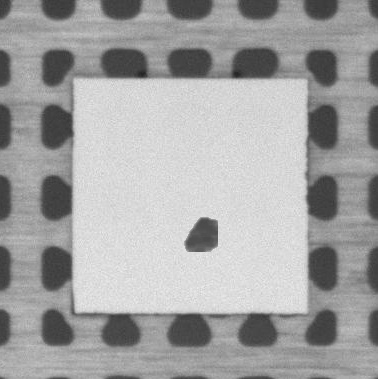DIE_INK: (180, 218, 217, 253)
